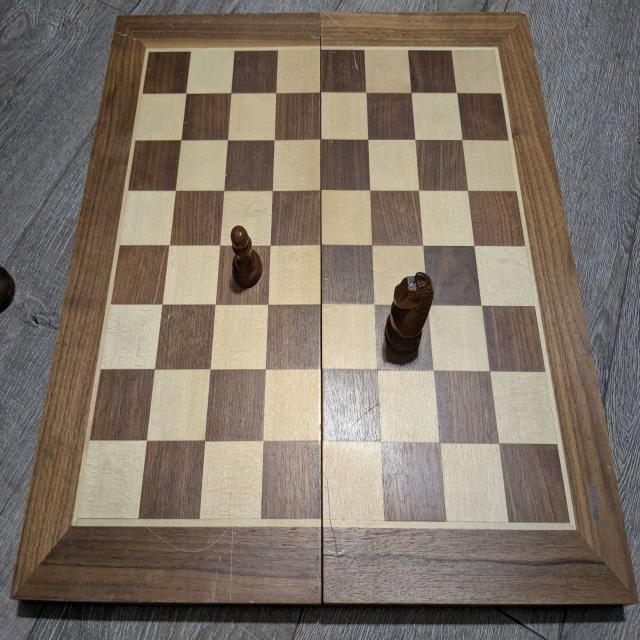black_knight: (384, 272, 434, 356)
black_pawn: (230, 225, 263, 289)
